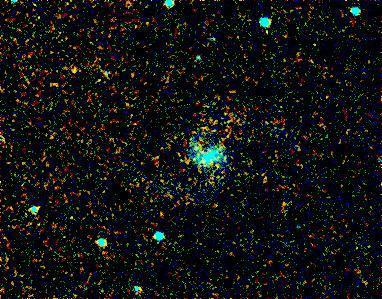star: (57, 52, 87, 82)
